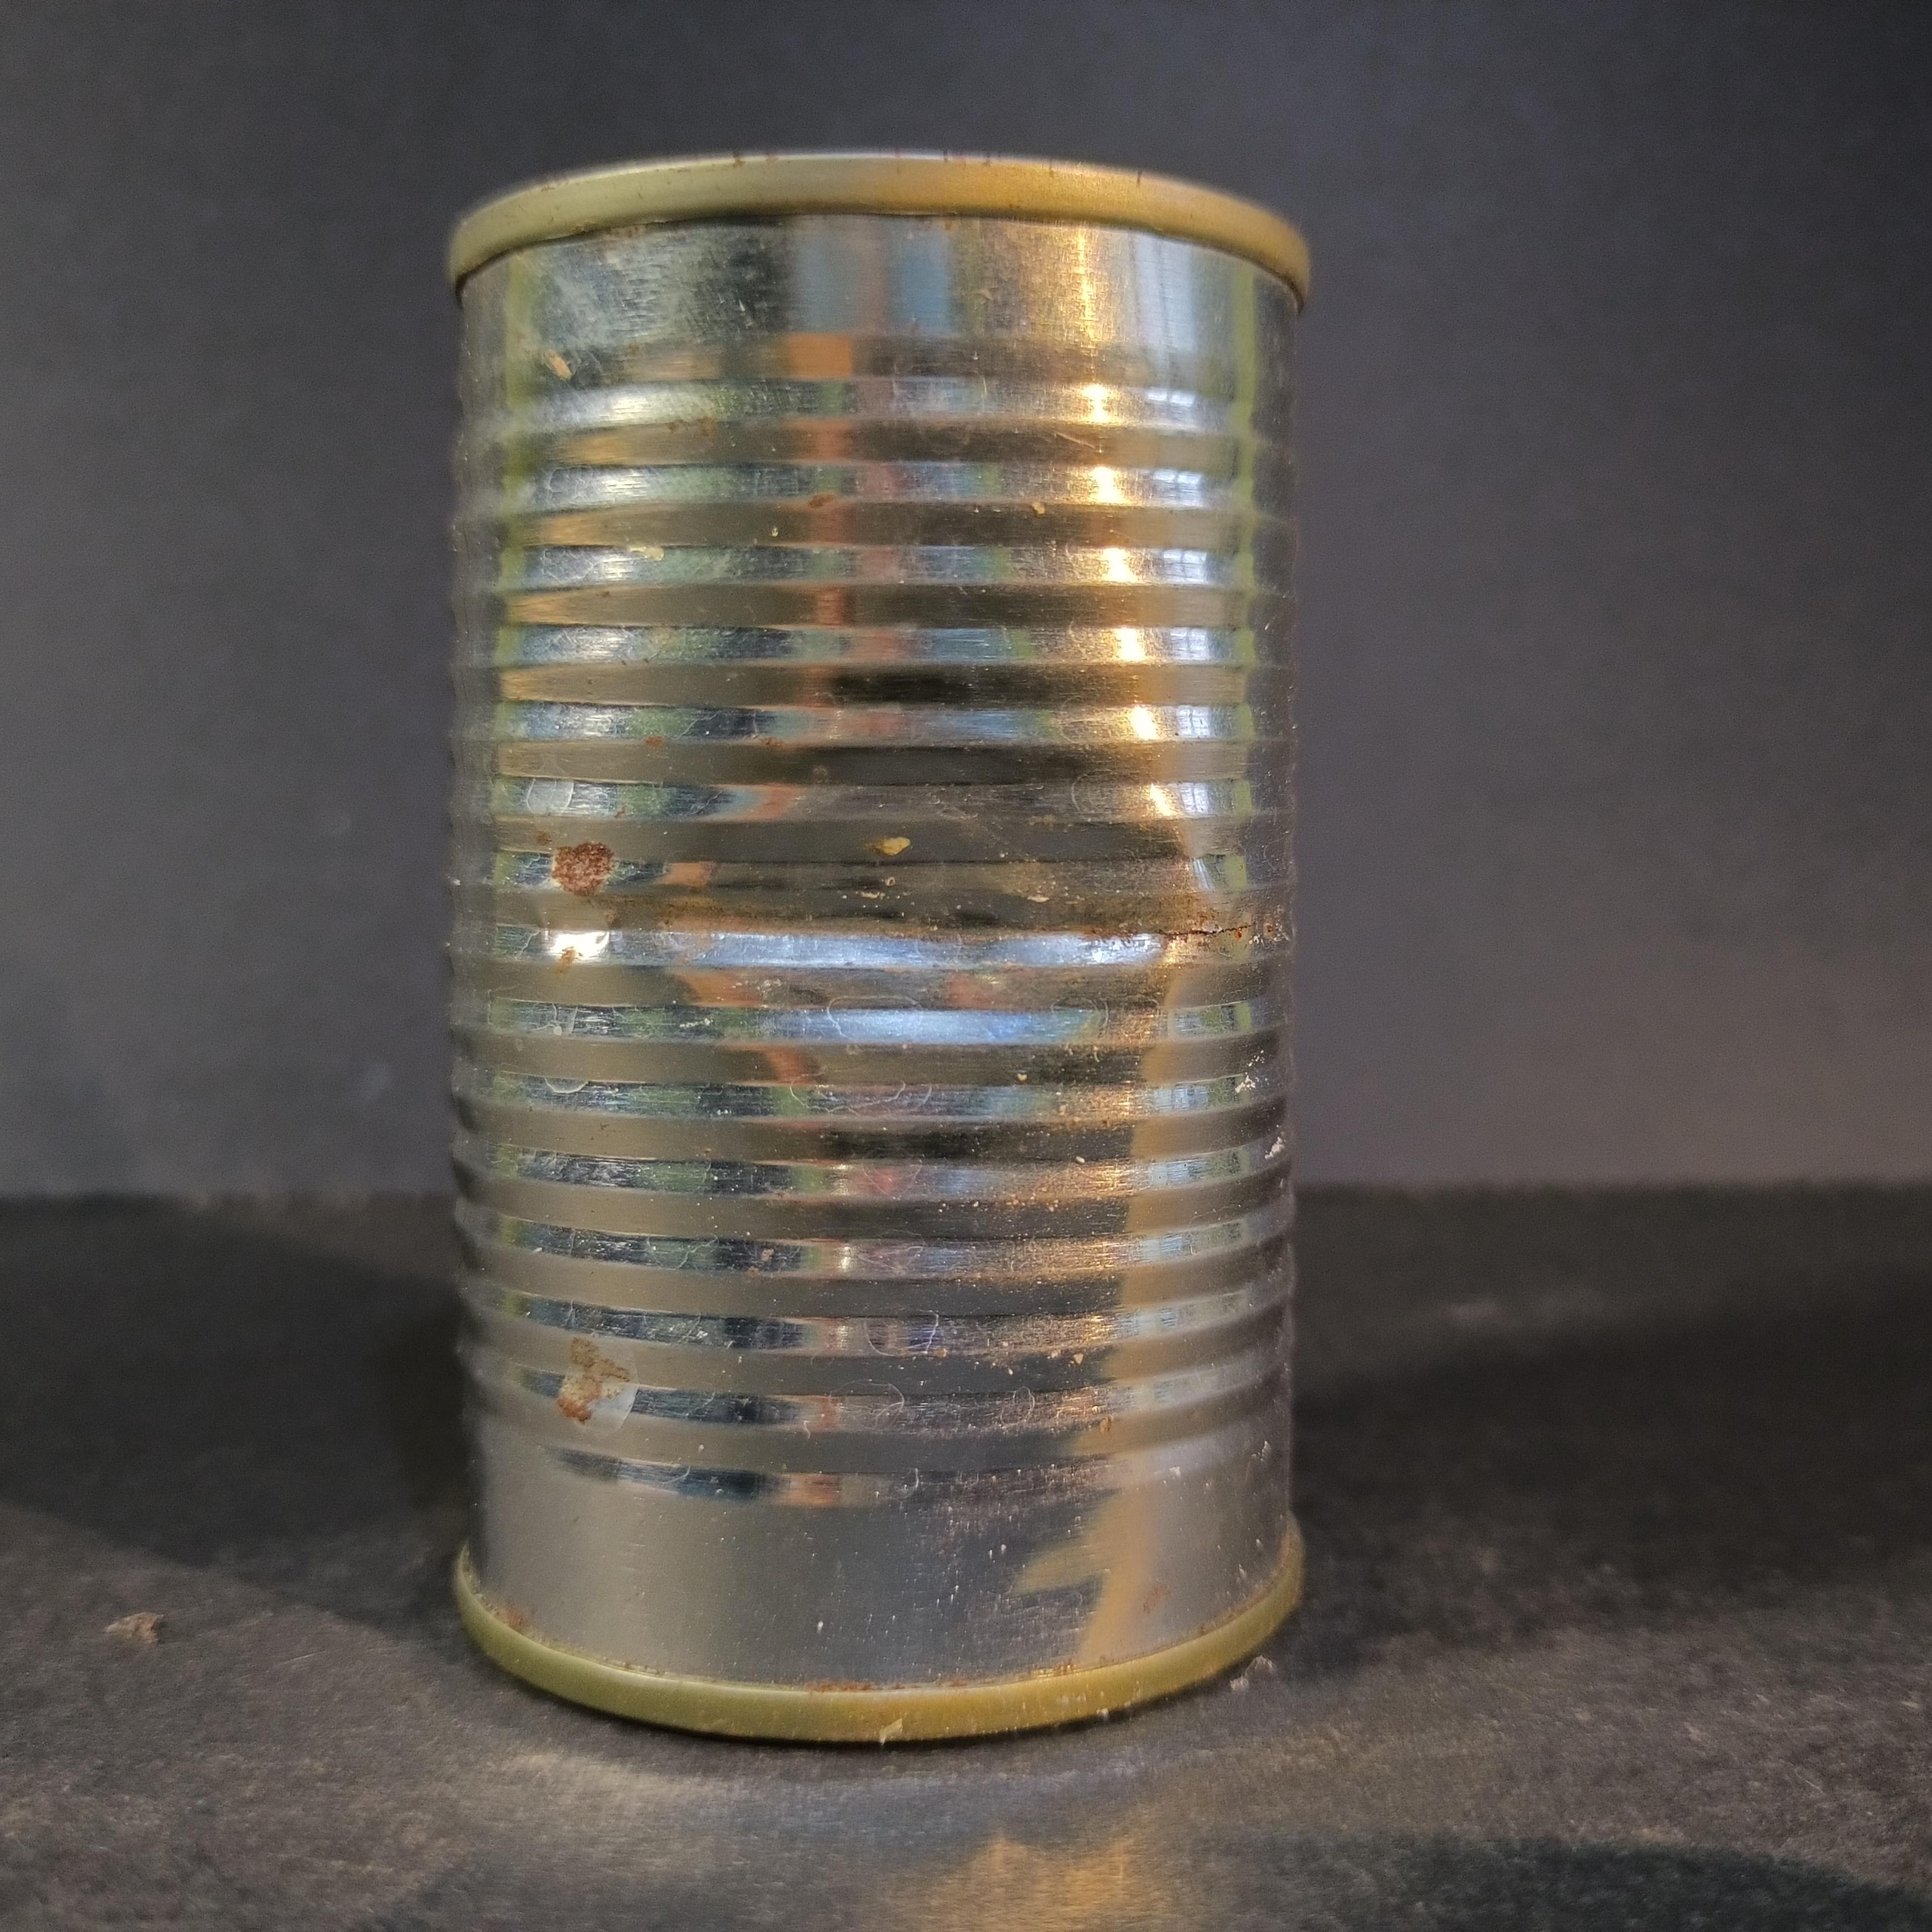Dented: (393, 106, 1369, 1780)
